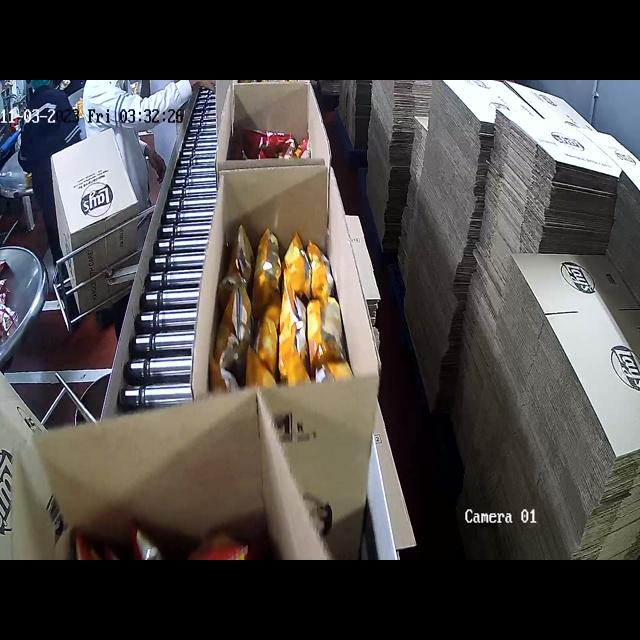cheese: (223, 224, 353, 390)
masala: (231, 106, 314, 156)
